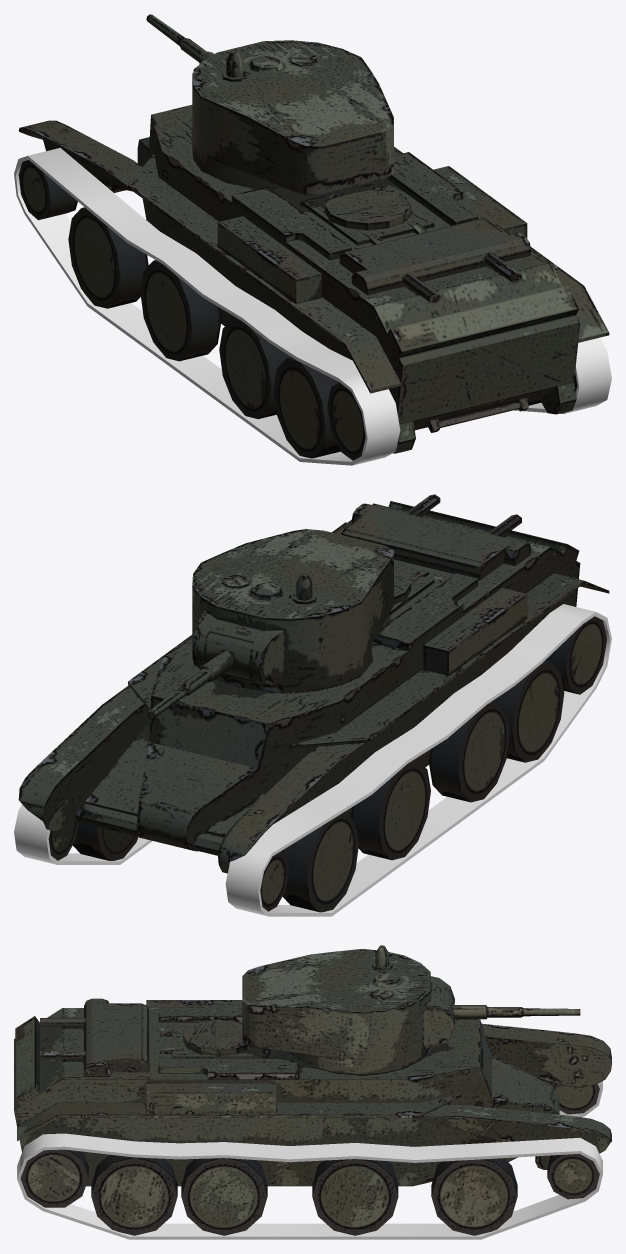
3 renders of one model, top to bottom at view 1: azimuth 30°, elevation 25°; view 2: azimuth 150°, elevation 25°; view 3: azimuth 270°, elevation 25°, orthographic. The views are drawn at different scales.
Visible parts, largest first — view 1: BT-7 Hull, BT-7 Turret, BT-7 Track, BT-7 Barrel; view 2: BT-7 Hull, BT-7 Turret, BT-7 Track, BT-7 Barrel; view 3: BT-7 Hull, BT-7 Turret, BT-7 Track, BT-7 Barrel.
Boxes of the visible parts, x1=… form: BT-7 Hull: x1=18, y1=105, x2=609, y2=460; BT-7 Turret: x1=192, y1=40, x2=393, y2=194; BT-7 Track: x1=14, y1=147, x2=611, y2=465; BT-7 Barrel: x1=146, y1=14, x2=213, y2=63; BT-7 Hull: x1=18, y1=494, x2=609, y2=912; BT-7 Turret: x1=192, y1=529, x2=393, y2=692; BT-7 Track: x1=14, y1=604, x2=611, y2=916; BT-7 Barrel: x1=146, y1=632, x2=253, y2=719; BT-7 Hull: x1=14, y1=998, x2=611, y2=1235; BT-7 Turret: x1=242, y1=945, x2=454, y2=1074; BT-7 Track: x1=17, y1=1081, x2=602, y2=1239; BT-7 Barrel: x1=445, y1=989, x2=580, y2=1019.
Size of the model in its own units: 2.21 by 2.39 by 5.65.
